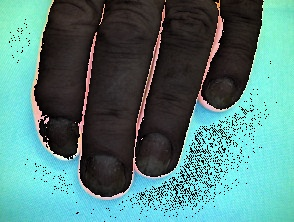Nail_psoriasis: (125, 119, 190, 185), (73, 145, 136, 202), (195, 61, 248, 117), (39, 113, 83, 162)
